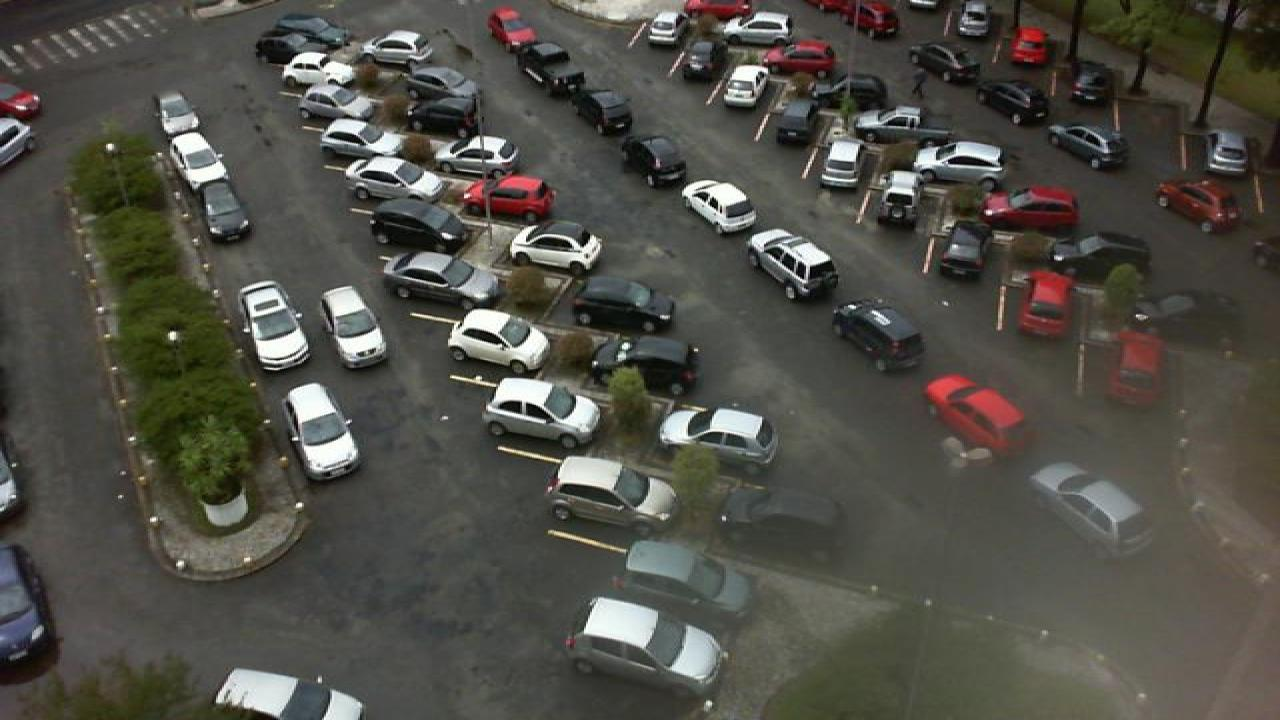Car: (562, 596, 728, 696), (610, 539, 752, 619), (1028, 462, 1154, 552), (546, 454, 684, 536), (696, 486, 846, 547), (478, 377, 604, 447), (214, 666, 368, 720), (654, 404, 782, 468), (920, 374, 1026, 450), (282, 382, 360, 482), (374, 250, 504, 308), (590, 332, 698, 398), (444, 308, 554, 372), (832, 300, 926, 374), (746, 229, 842, 300), (238, 279, 312, 371), (568, 273, 680, 333), (0, 543, 54, 665), (504, 218, 606, 280), (1046, 229, 1154, 287), (366, 196, 470, 255), (1110, 291, 1212, 349), (320, 283, 388, 368), (342, 155, 450, 207), (460, 172, 560, 224), (1156, 178, 1246, 235), (1106, 328, 1164, 408), (1010, 270, 1076, 340), (980, 187, 1084, 231), (680, 180, 758, 236), (916, 138, 1010, 184), (854, 105, 956, 145), (190, 178, 254, 241), (1046, 124, 1130, 170), (512, 39, 586, 91), (618, 134, 688, 188), (316, 117, 400, 161), (974, 79, 1050, 127), (168, 130, 232, 184), (408, 94, 482, 140), (442, 134, 522, 176), (334, 57, 412, 97), (908, 41, 980, 84), (298, 82, 374, 122), (572, 89, 636, 136), (762, 38, 840, 74), (402, 66, 476, 103), (250, 30, 326, 66), (356, 29, 434, 64), (876, 170, 920, 231), (484, 6, 540, 50), (772, 98, 822, 147), (718, 64, 768, 112), (1204, 130, 1256, 176), (840, 0, 902, 38), (264, 12, 340, 42), (730, 10, 796, 44), (818, 139, 860, 192), (280, 51, 334, 91), (156, 91, 204, 136), (678, 38, 728, 81), (1070, 60, 1116, 105), (0, 116, 36, 168), (0, 80, 42, 119), (644, 9, 684, 49), (1010, 27, 1050, 66), (954, 0, 992, 40), (684, 0, 756, 21)
